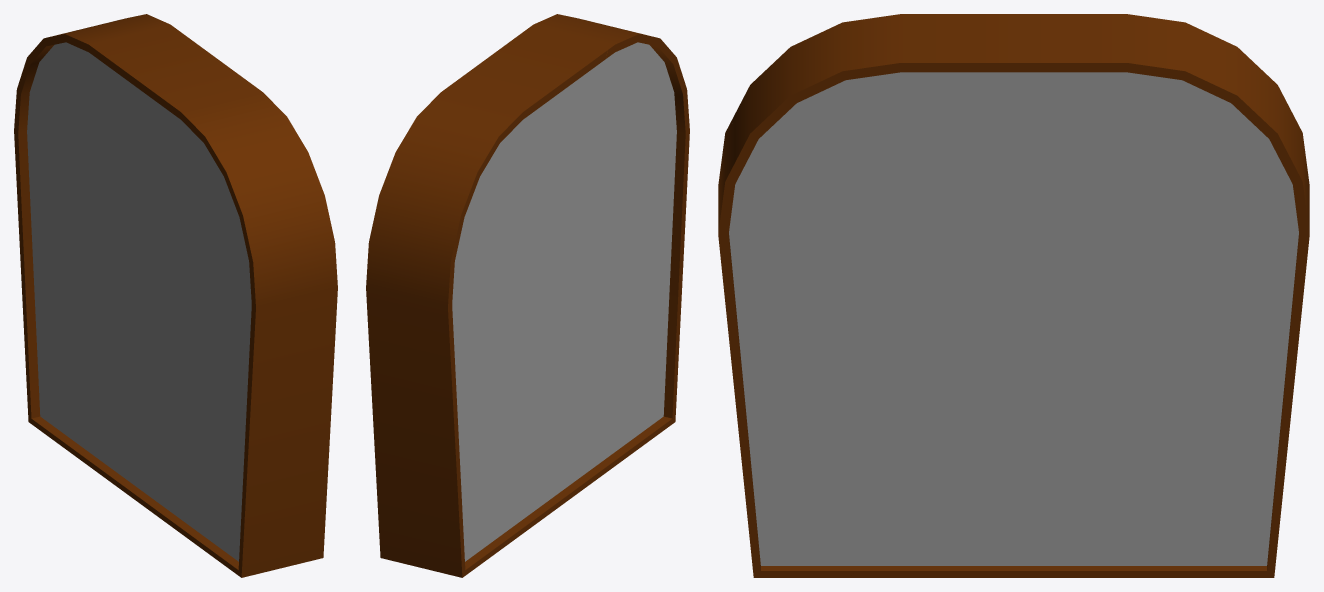
File: Chlebek_3.fbx
The picture shows the model from 3 angles, left to right: view 1: azimuth 30°, elevation 25°; view 2: azimuth 150°, elevation 25°; view 3: azimuth 270°, elevation 25°; orthographic projection. The views are drawn at different scales.
Visible parts, largest first — view 1: chlebek_3; view 2: chlebek_3; view 3: chlebek_3.
Boxes of the visible parts, x1,y1,x2,y2 form: chlebek_3: (14, 14, 337, 577); chlebek_3: (366, 14, 689, 577); chlebek_3: (718, 14, 1309, 577).
Bounding box in the file's own units: 39.54 × 194 × 202.
